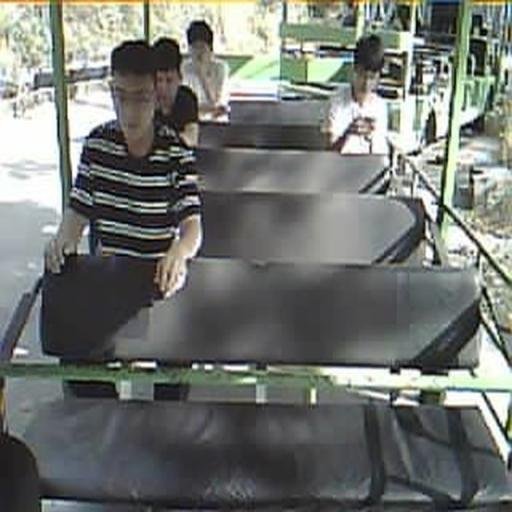persona: (44, 38, 204, 300), (323, 33, 391, 154), (151, 36, 200, 147), (180, 19, 231, 124)
